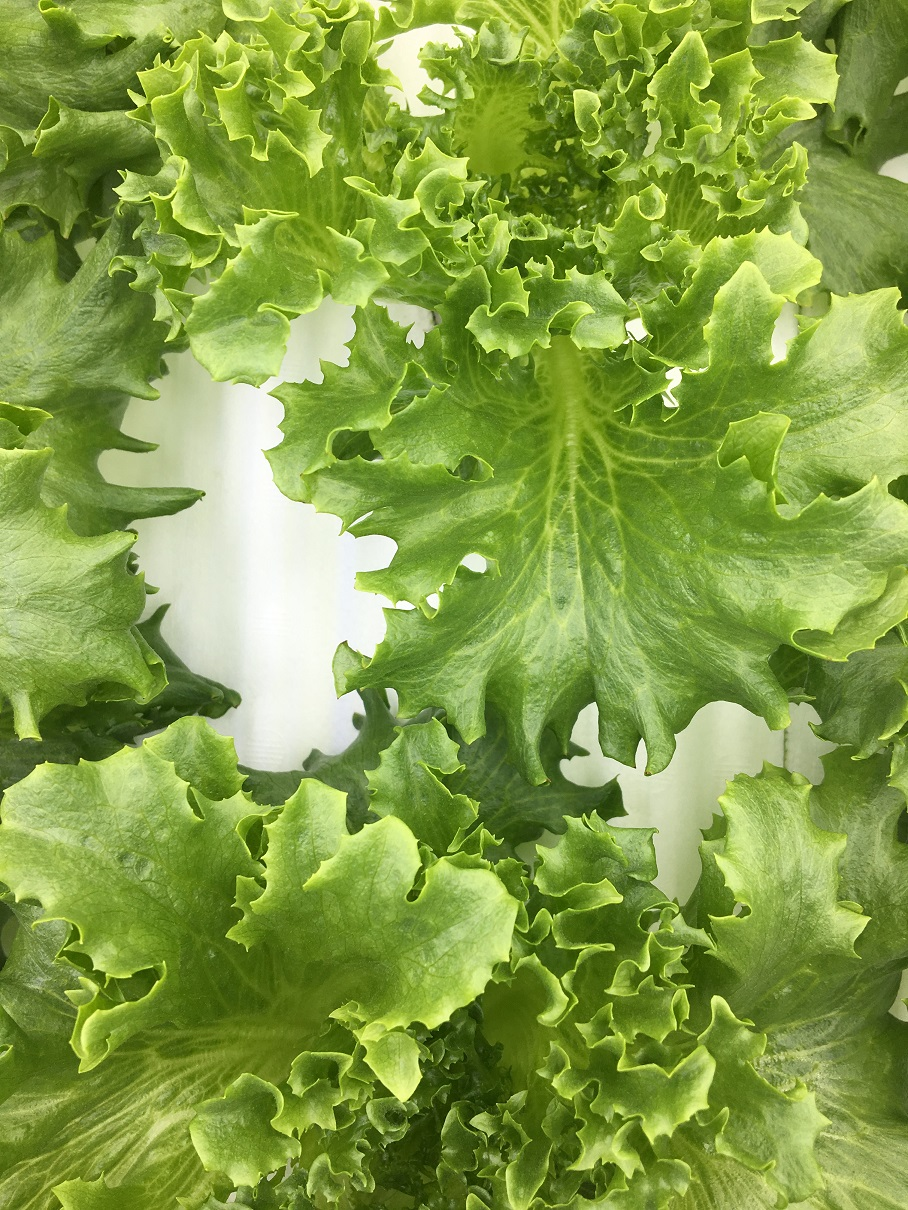tipburn: (638, 766, 659, 783)
